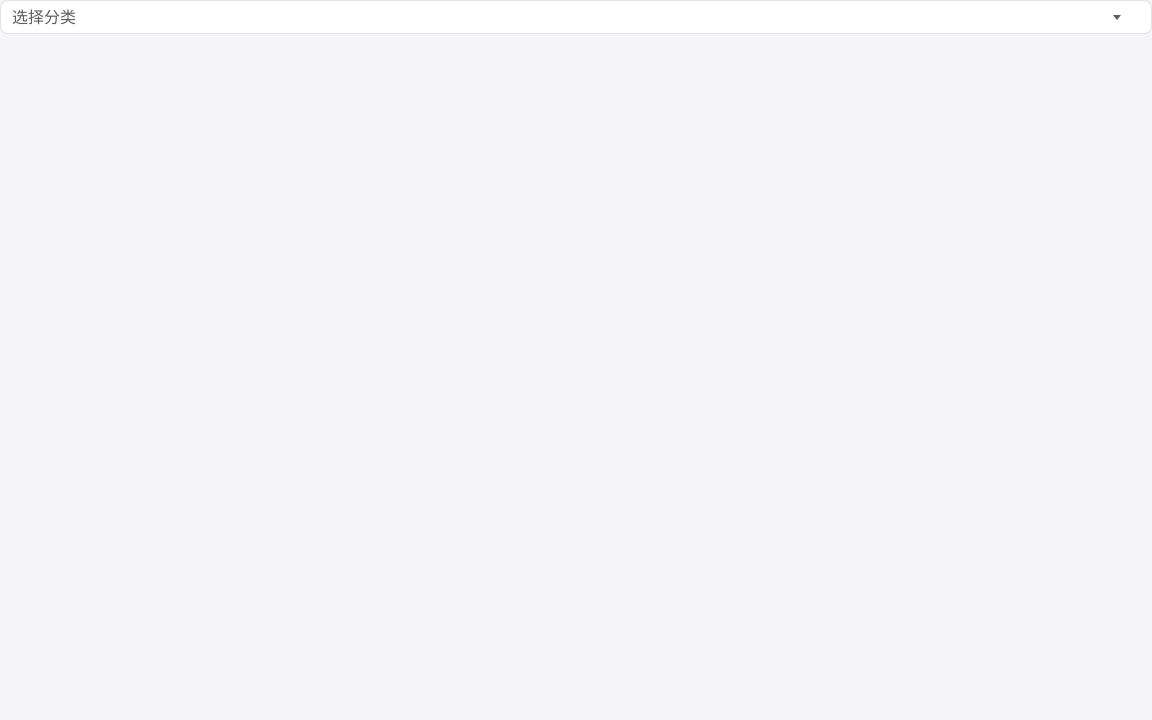
Test: 逐级进入式分类选择器 › kind 为支出时不出现收入分类，kind 为 All 时收入支出按方向分组
This screenshot has width=1152, height=720.
Later steps or results of the test are not shown.
What coordinates should you click on to do the following:
click the button with aria-label "二级或三级分类"
I would click on:
 (44, 17)
Its box is [0,0,1151,34].
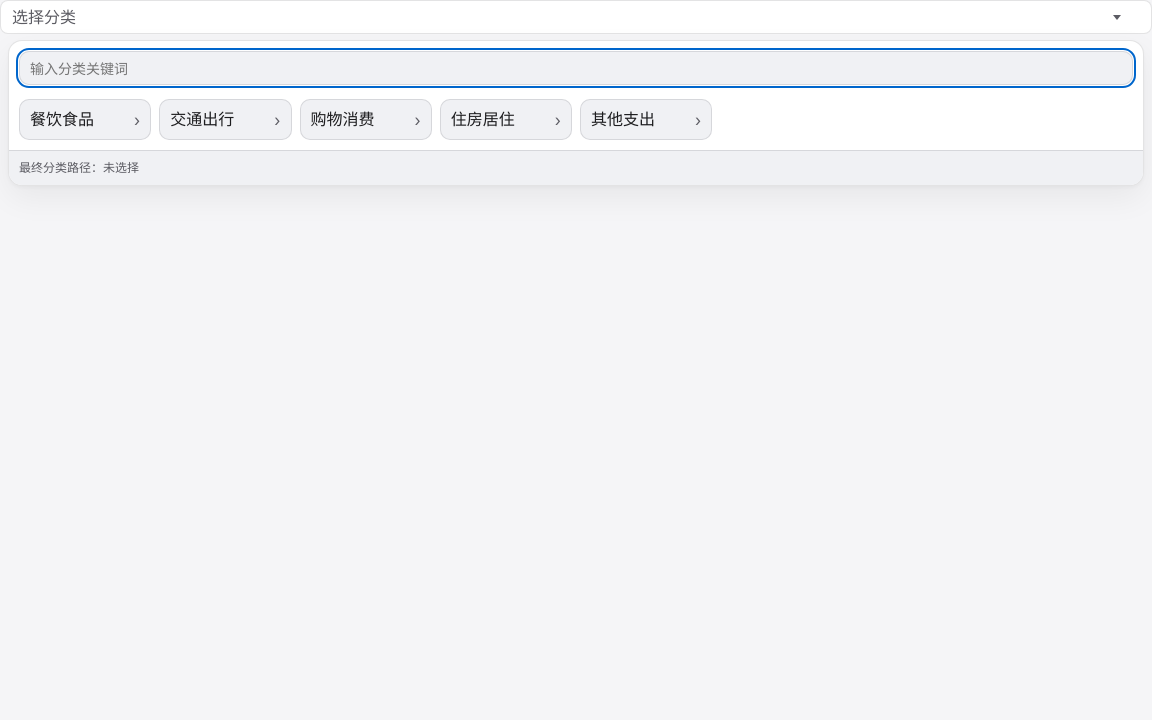
Expected: the button with aria-label "餐饮食品 · 进入下级" is shown, [19,99,151,140]
